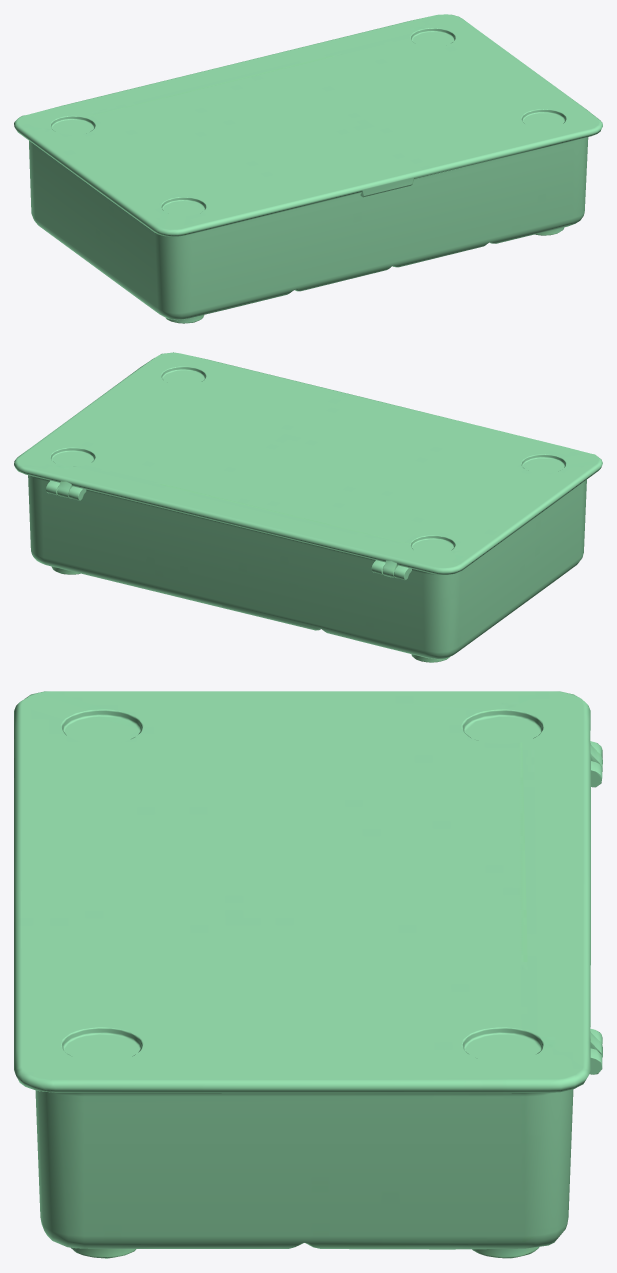
The model's file is glis_pudeko_z_pokrywka_00604123.glb.
3 renders of one model, top to bottom at view 1: azimuth 30°, elevation 25°; view 2: azimuth 150°, elevation 25°; view 3: azimuth 270°, elevation 25°, orthographic. The views are drawn at different scales.
Visible parts, largest first — view 1: glis_pudeko_z_pokrywka_00604123; view 2: glis_pudeko_z_pokrywka_00604123; view 3: glis_pudeko_z_pokrywka_00604123.
Part boxes in pixels (left/top/right/bottom): glis_pudeko_z_pokrywka_00604123: left=14, top=14, right=602, bottom=323; glis_pudeko_z_pokrywka_00604123: left=14, top=352, right=602, bottom=662; glis_pudeko_z_pokrywka_00604123: left=14, top=691, right=602, bottom=1258.
Bounding box in the file's own units: 0.3405 × 0.0799 × 0.2146.
1 material, 1 textured.
